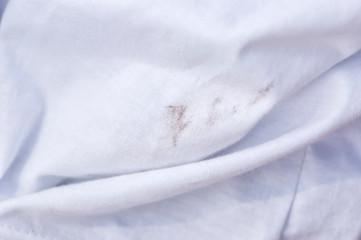gun: (159, 105, 193, 148), (250, 76, 274, 103)
